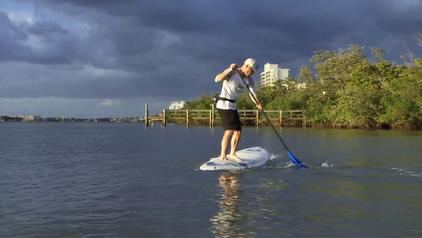hands_up: (214, 53, 256, 172)
